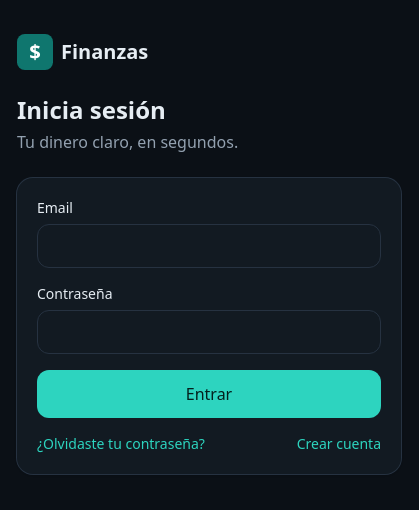
Test: LoginPage › posts the credentials and shows the API error message
Type "demo@example.com" into the field labelled "Email".
click(209, 246); type("demo@example.com")  # box 37,224 -> 381,268
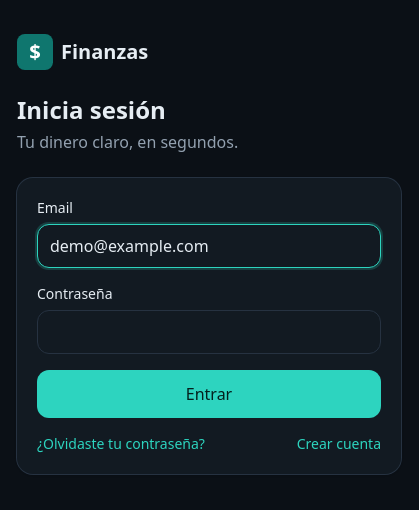
Type "mala-clave" into the password field labelled "Contraseña".
click(209, 332); type("mala-clave")  # box 37,310 -> 381,354
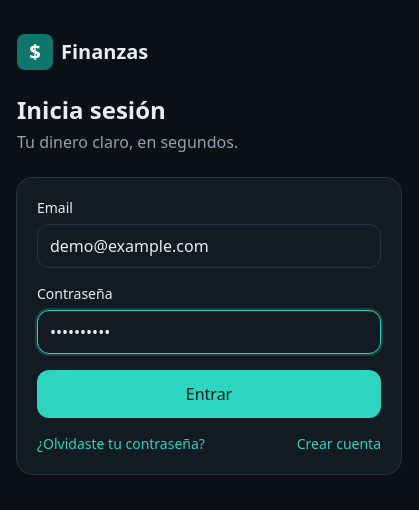
Click the button "Entrar".
click(209, 394)  # box 37,370 -> 381,418
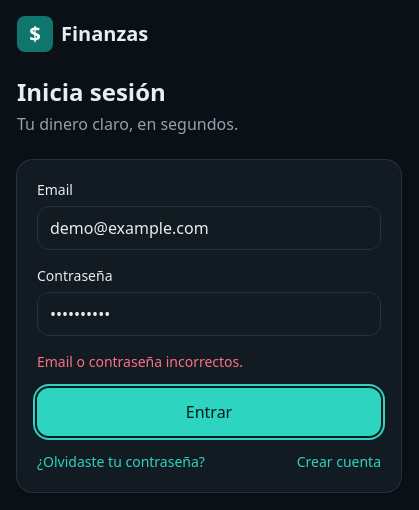
Expected: the message reads "Email o contraseña incorrectos.", 37,352 -> 243,371
